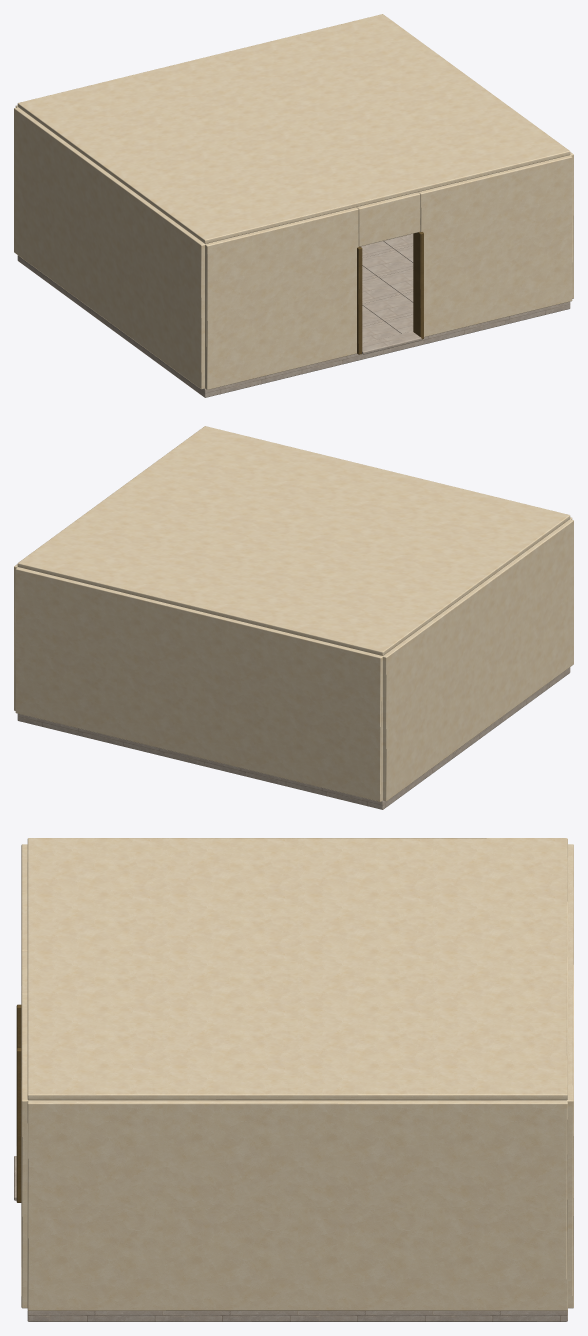
Rendered from hotel_washroom.glb.
The picture shows the model from 3 angles, top to bottom: view 1: azimuth 30°, elevation 25°; view 2: azimuth 150°, elevation 25°; view 3: azimuth 270°, elevation 25°; orthographic projection. The views are drawn at different scales.
Visible parts, largest first — view 1: Rebuilt_hotel_washroom; view 2: Rebuilt_hotel_washroom; view 3: Rebuilt_hotel_washroom.
Boxes of the visible parts, left/top/right/bottom form: Rebuilt_hotel_washroom: left=14, top=14, right=573, bottom=397; Rebuilt_hotel_washroom: left=14, top=426, right=573, bottom=809; Rebuilt_hotel_washroom: left=14, top=838, right=573, bottom=1321.
Size of the model in its own units: 9.18 by 3.72 by 8.29.
Materials: 11 (9 with a texture image).
